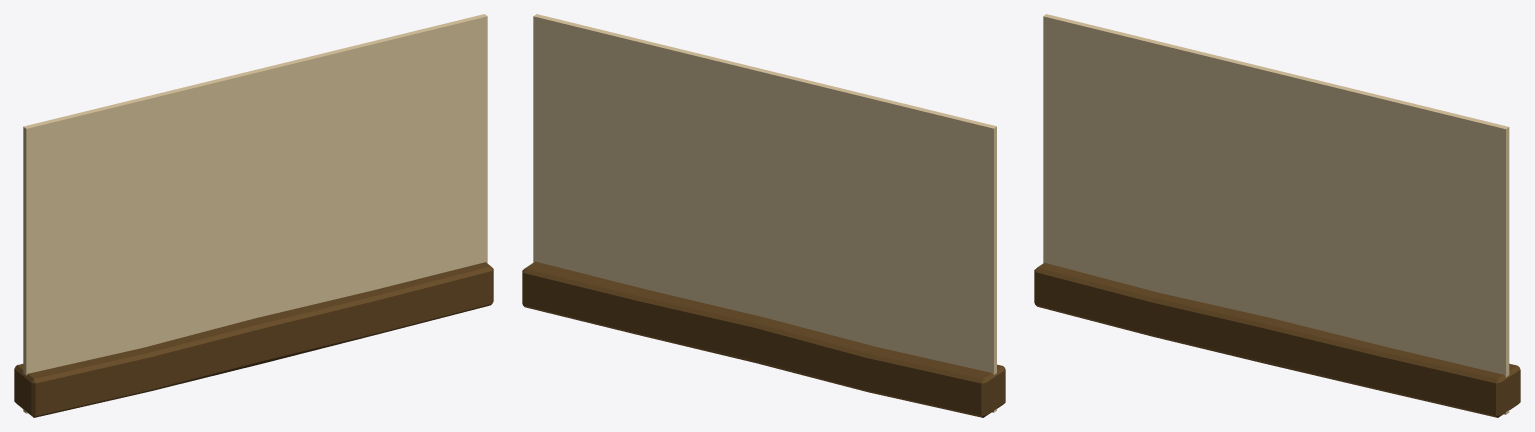
The model's file is Wall_04.fbx.
The picture shows the model from 3 angles, left to right: view 1: azimuth 30°, elevation 25°; view 2: azimuth 150°, elevation 25°; view 3: azimuth 330°, elevation 25°; orthographic projection.
Visible parts, largest first — view 1: Wall_04; view 2: Wall_04; view 3: Wall_04.
Boxes of the visible parts, x1,y1,x2,y2 form: Wall_04: [14, 14, 493, 417]; Wall_04: [522, 14, 1005, 417]; Wall_04: [1034, 14, 1520, 417].
Bounding box in the file's own units: 4.76 × 2.8 × 0.4192.
